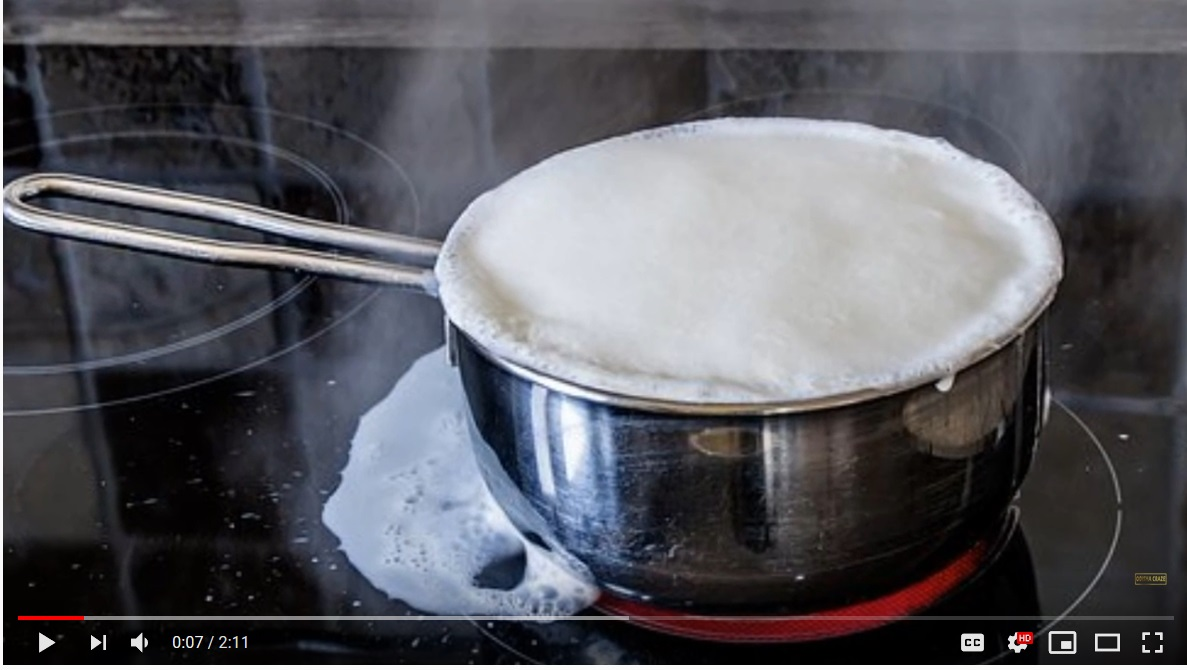Boiled: (431, 108, 1072, 565)
